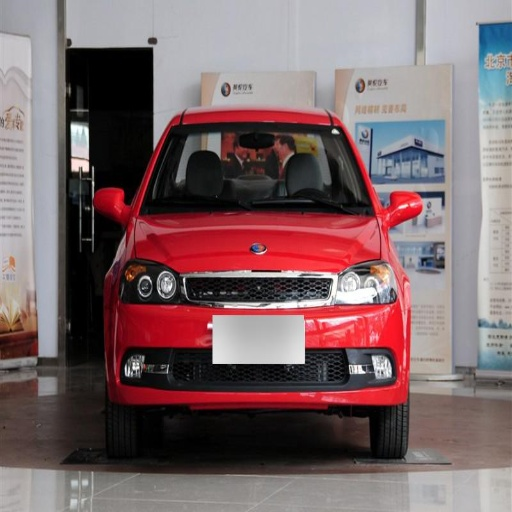front_bumper: (111, 272, 405, 409)
hood: (132, 212, 381, 273)
